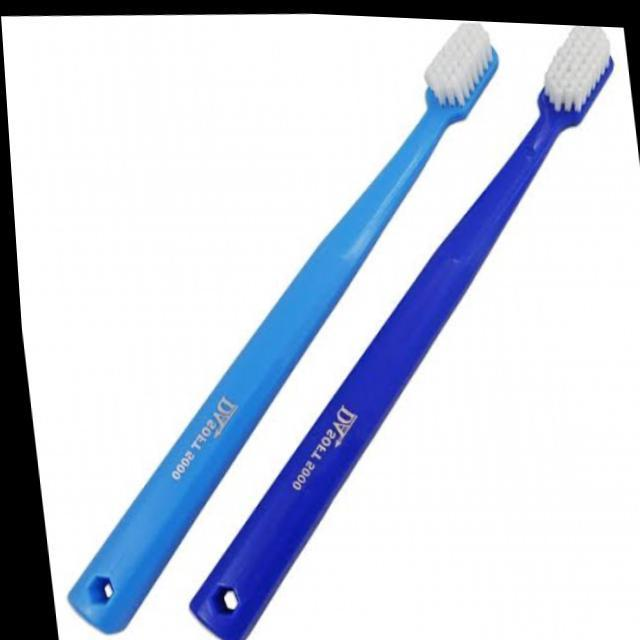toothbrush: (49, 16, 512, 640), (162, 20, 617, 640)
